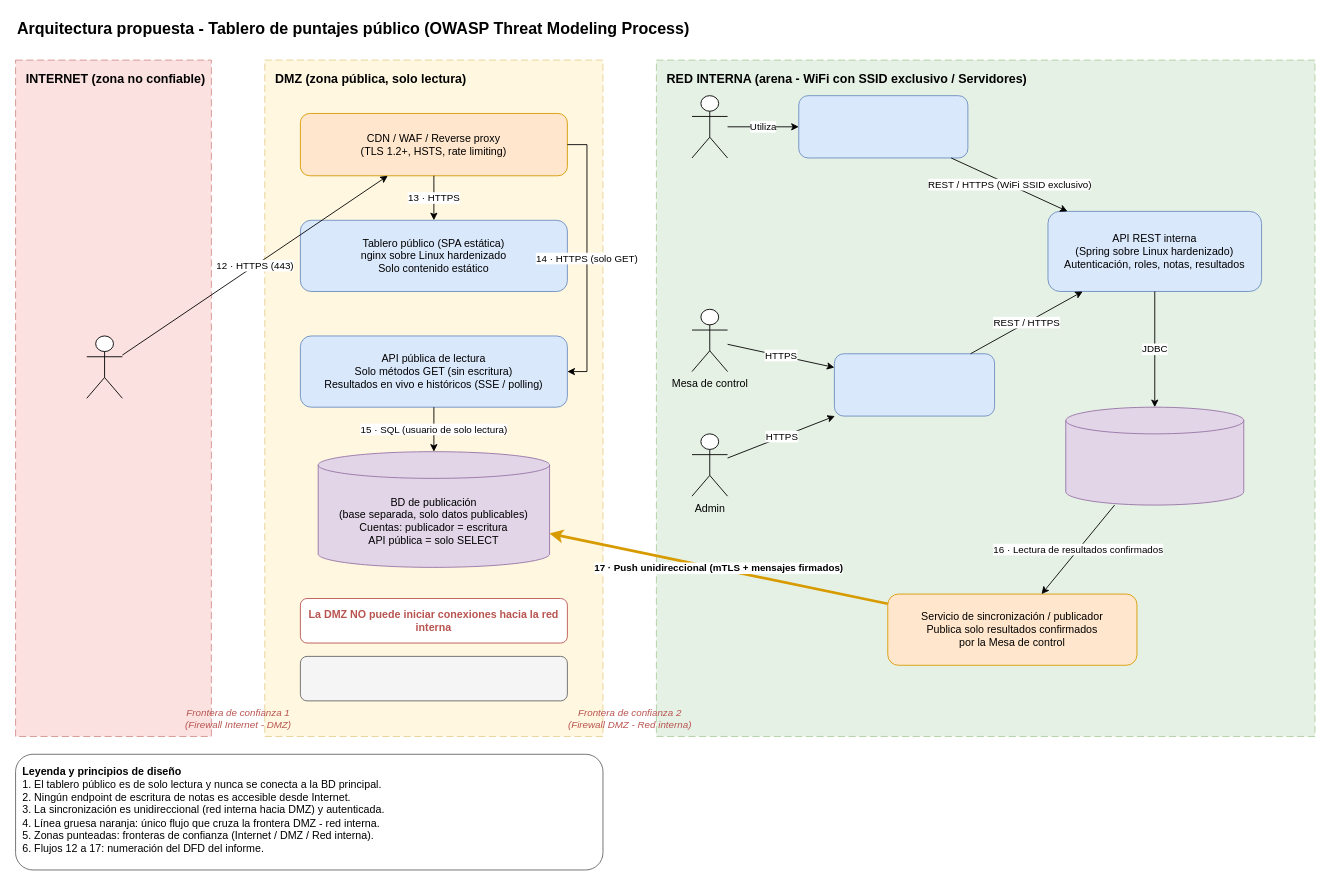
Some shapes in this 1331 by 886 pixel diagram are drawn without their labels. Here are the shapes that lost their labels. From the top down, the centre of each, then its label:
At (709,126): "Juez".
At (883,126): "APP Mobile (tableta Android de la federación)".
At (104,366): "Público anónimo (navegador)".
At (914,384): "Web de gestión (SPA) Mesa de control / Admin".
At (1154,455): "BD principal (PostgreSQL) Notas, gimnastas, torneos".
At (433,678): "Monitoreo y logs centralizados (CDN/WAF, API pública, publicador)".
